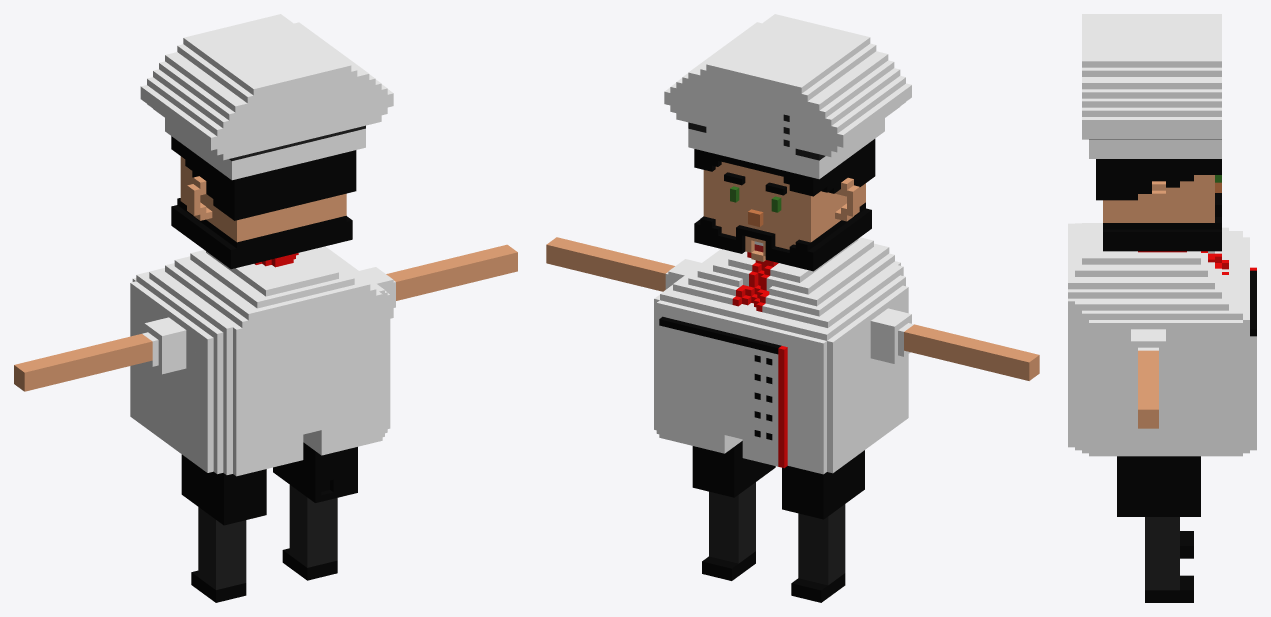
The model's file is Eruption-32.obj.
The picture shows the model from 3 angles, left to right: view 1: azimuth 30°, elevation 25°; view 2: azimuth 150°, elevation 25°; view 3: azimuth 270°, elevation 25°; orthographic projection. The views are drawn at different scales.
Size of the model in its own units: 8.1 by 8.4 by 2.7.
1 material, 1 textured.
